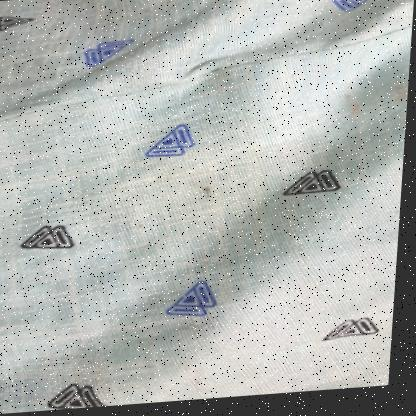spot: (338, 93, 378, 125), (195, 180, 228, 205), (388, 79, 406, 114), (192, 374, 217, 392)
